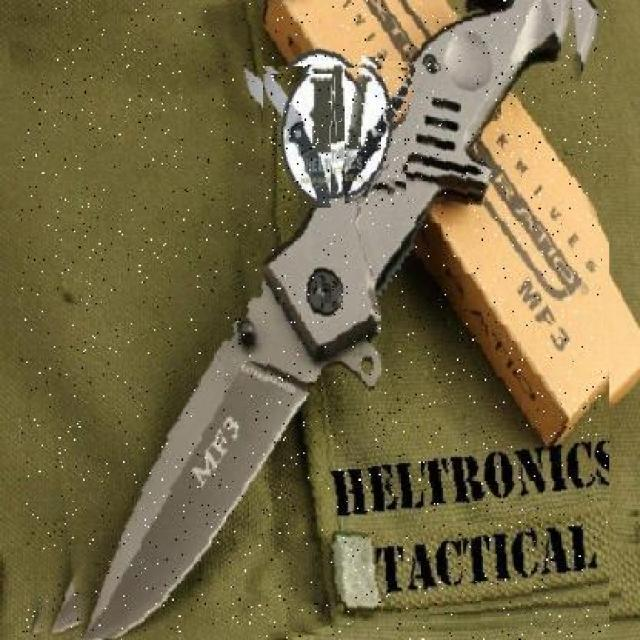knife: (20, 0, 609, 640), (263, 74, 332, 208), (345, 67, 407, 206)
